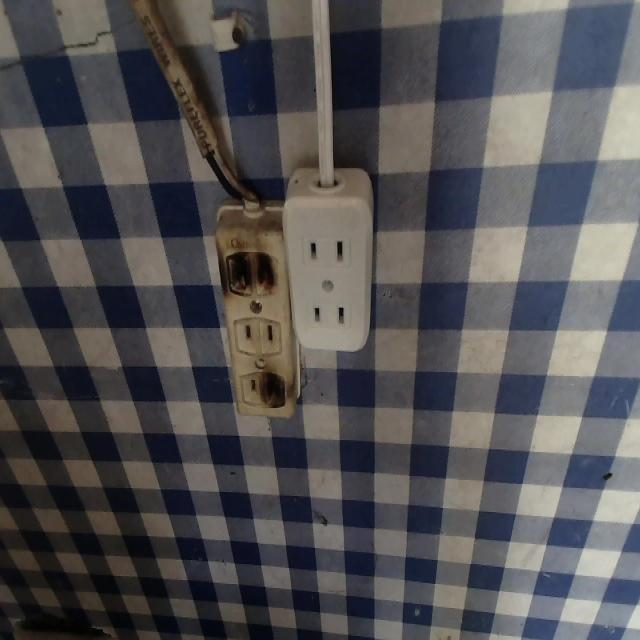-: (220, 247, 280, 297), (259, 367, 287, 409)
